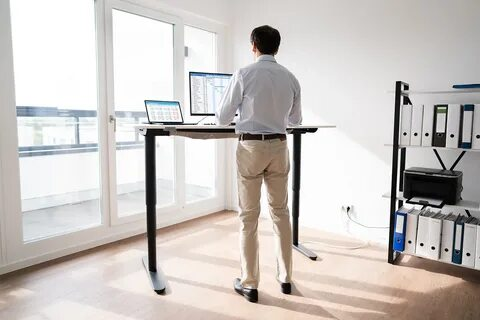awake: (215, 24, 303, 303)
